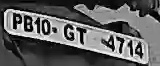0: (40, 18, 51, 42)
1: (34, 15, 41, 39), (125, 40, 134, 58)
4: (133, 41, 145, 62), (107, 34, 117, 55)
7: (115, 34, 127, 57)
B: (23, 15, 34, 36)
G: (62, 24, 76, 44)
P: (9, 12, 23, 33)
T: (76, 26, 87, 47)
